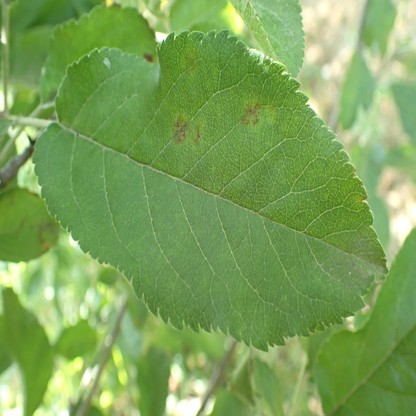powdery_mildew: (315, 231, 384, 278)
scab: (13, 217, 58, 247), (171, 112, 189, 148), (240, 100, 262, 126), (192, 120, 203, 148), (181, 54, 196, 73), (8, 194, 15, 209)
